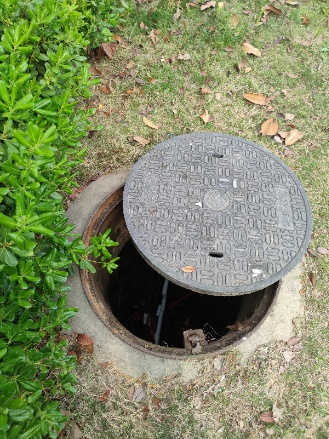uncovered: (79, 131, 313, 360)
